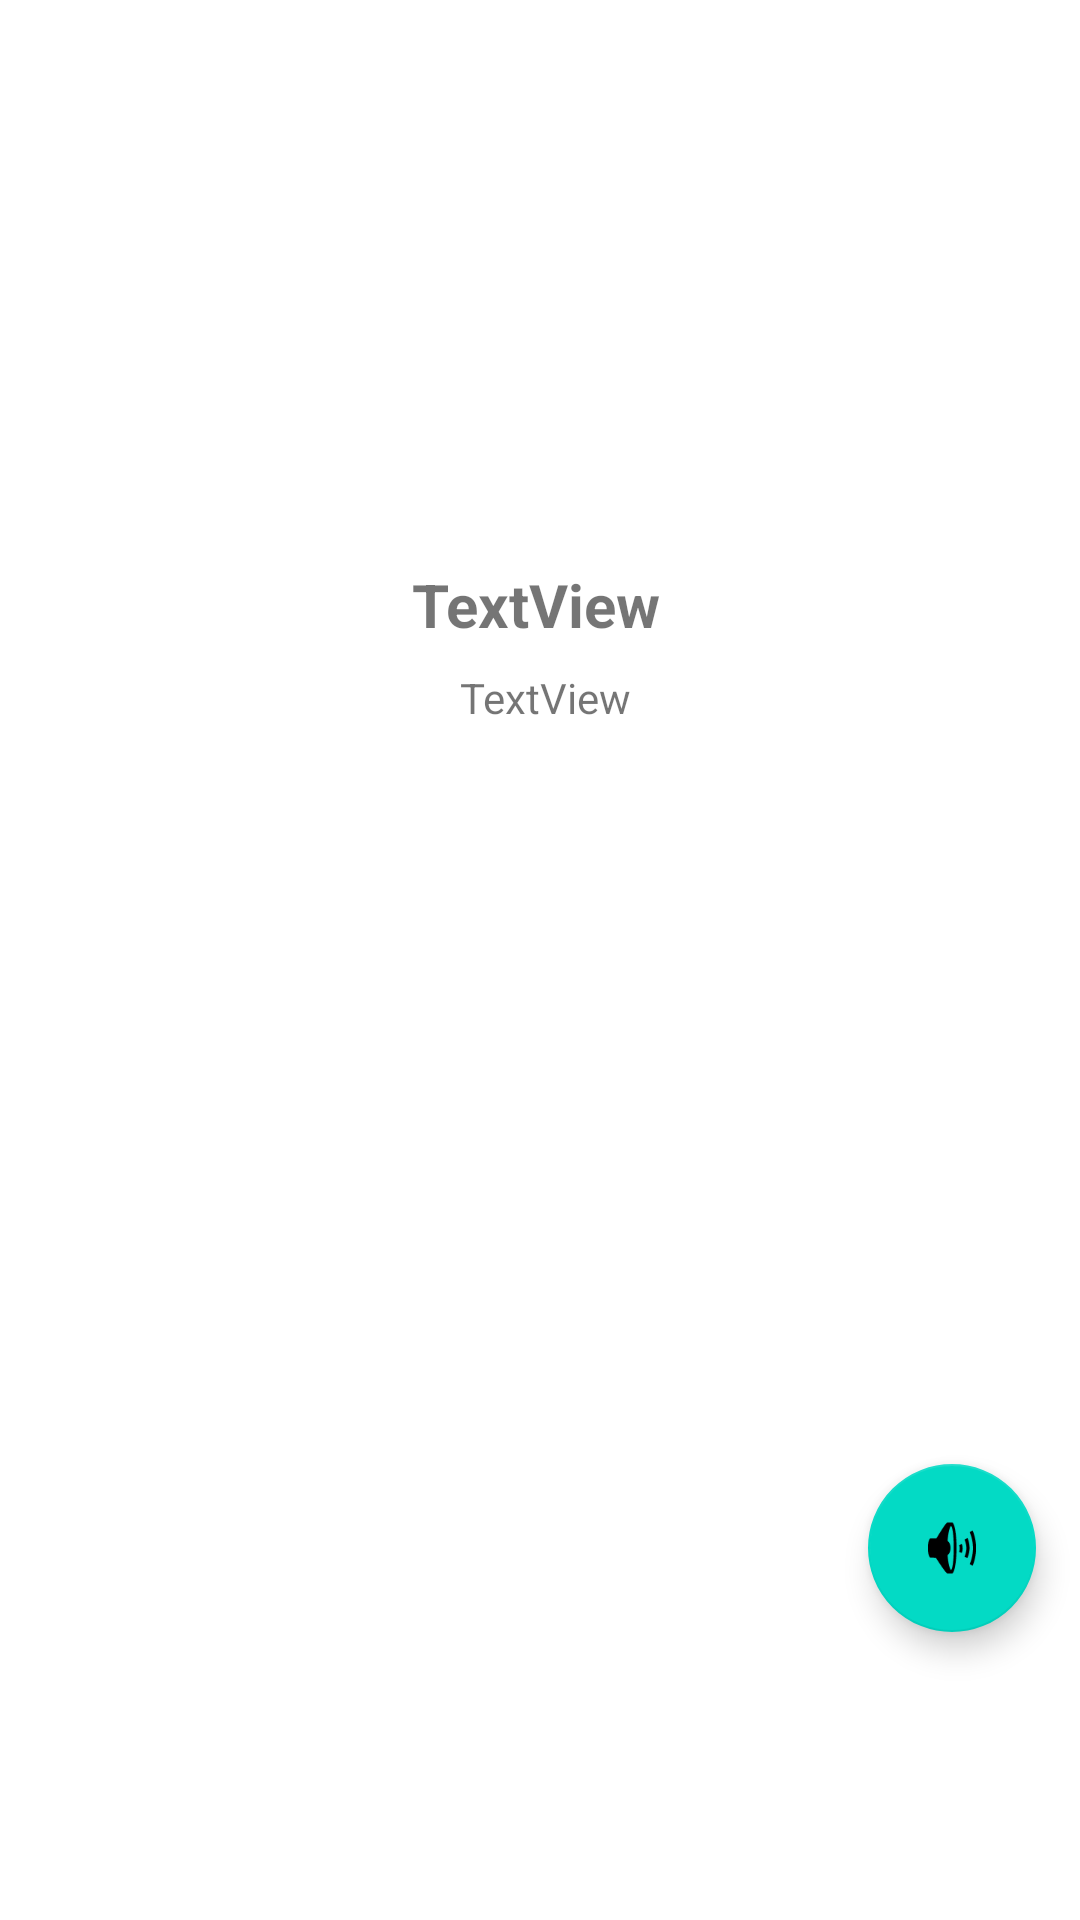

Named icons in this screenshot (1080 x 1920) and their bounding boxes, box=[x1, y1, x2, y2]:
lock silent mode off: box=[868, 1464, 1036, 1632]
